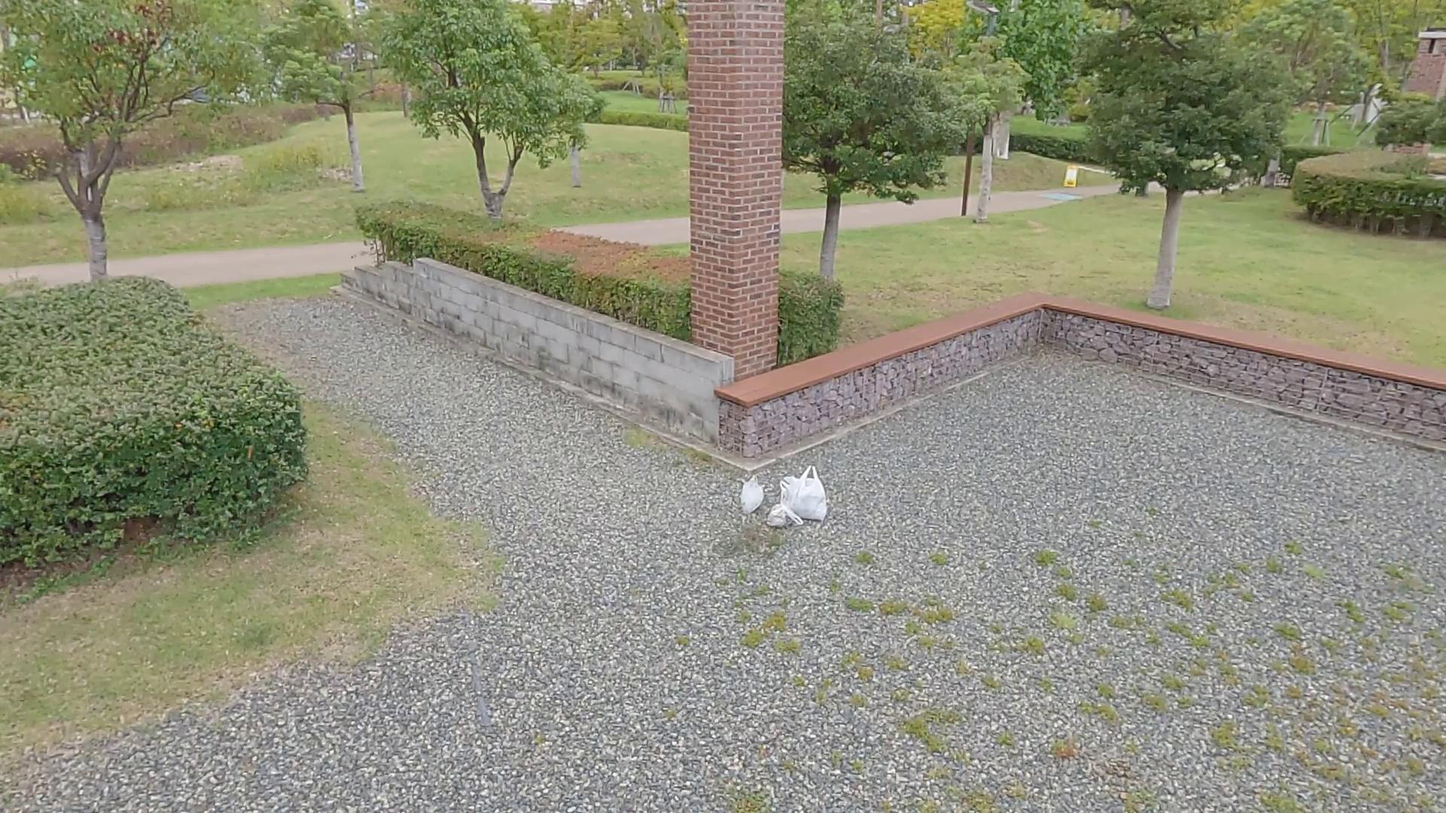trash: (779, 467, 830, 524), (768, 490, 802, 529), (740, 474, 766, 514)
